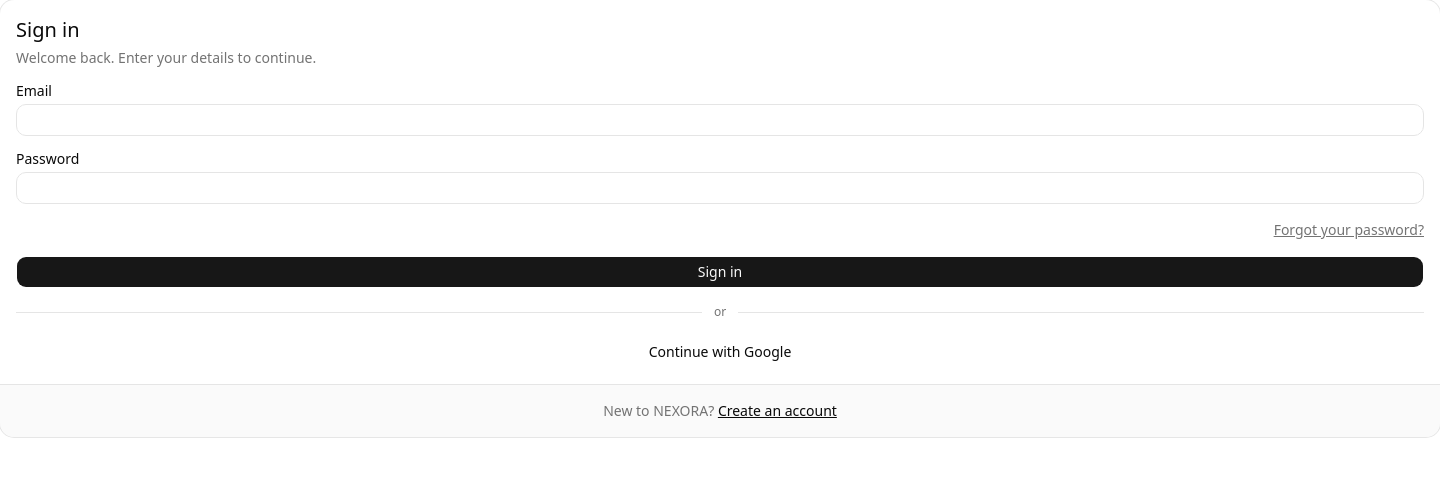
LoginForm › shows what is wrong before anything is sent
Click the button "Sign in". click: {"x": 720, "y": 272}
box: [16,256,1424,288]
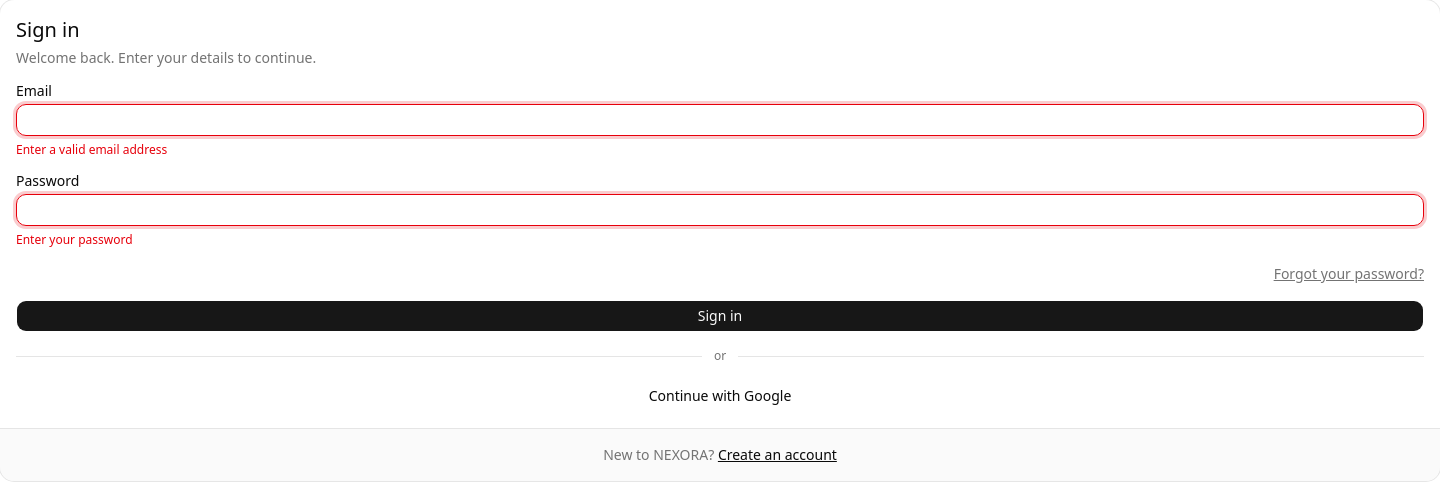
Expected: the text "Enter a valid email address" is shown, [16,141,167,158]
Expected: the text "Enter your password" is shown, [16,231,132,248]
